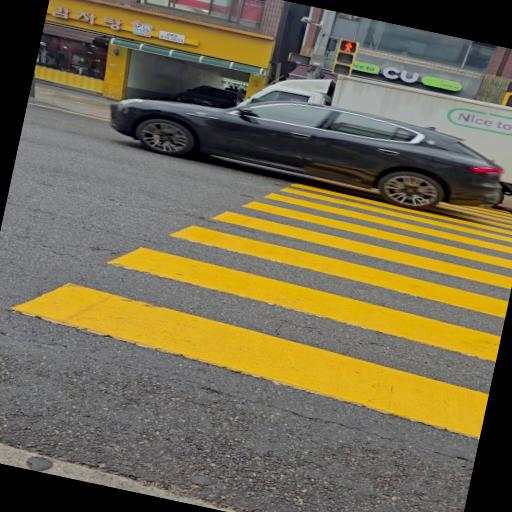yellow-crosswalk: (0, 94, 512, 449)
